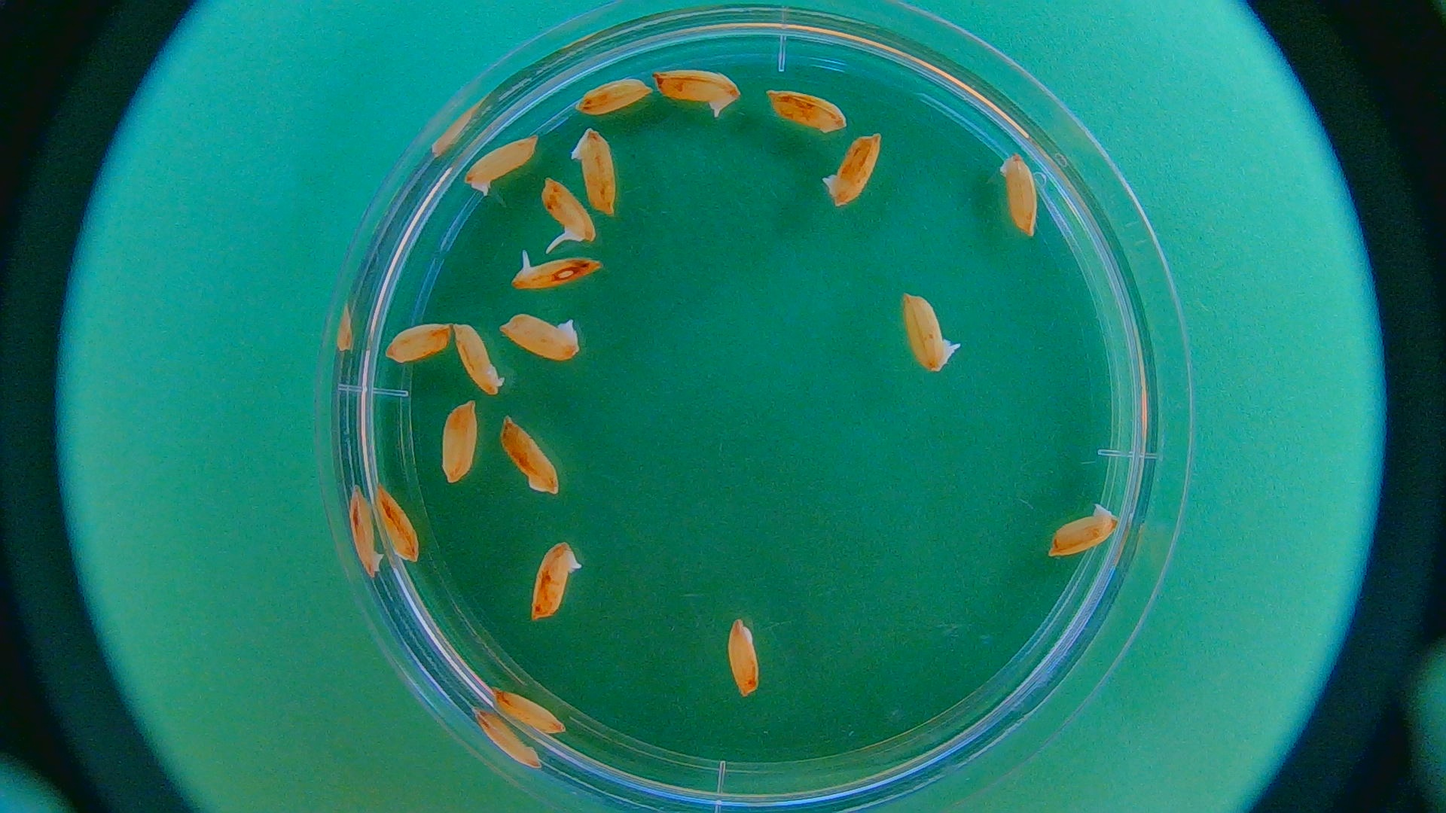no: (495, 407, 565, 500), (519, 531, 581, 635), (818, 129, 884, 216), (570, 120, 625, 224), (501, 312, 595, 371), (370, 475, 427, 571), (1047, 494, 1121, 567), (461, 135, 541, 198), (653, 65, 747, 118), (453, 315, 508, 405), (491, 679, 577, 735), (763, 82, 852, 136), (432, 400, 484, 490), (997, 149, 1047, 239), (569, 69, 653, 121), (719, 614, 767, 702), (383, 314, 454, 368), (343, 477, 381, 577)
yes: (901, 293, 951, 370), (539, 180, 597, 240), (508, 254, 598, 289)
